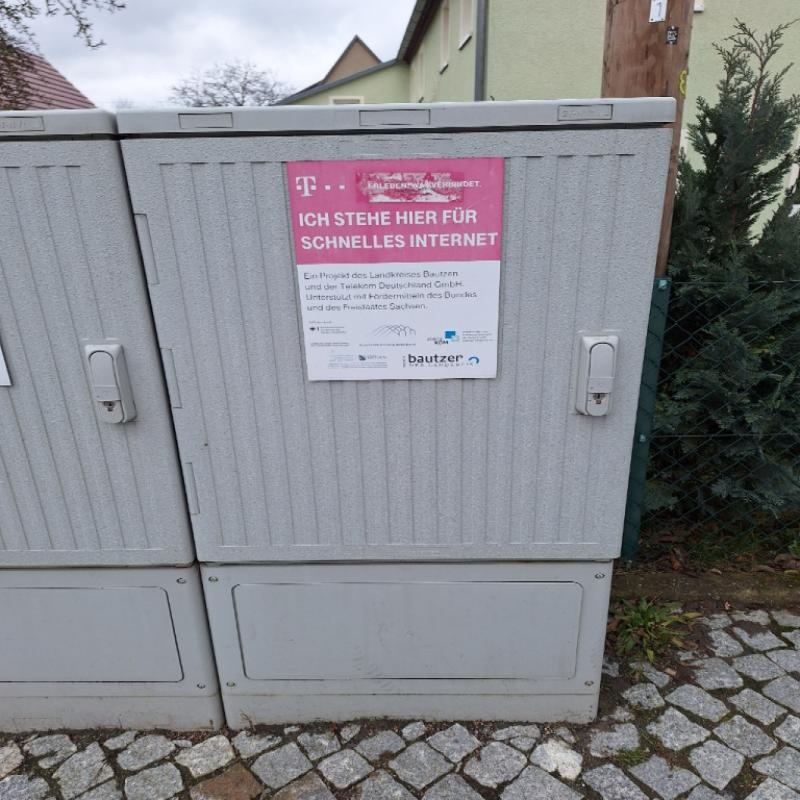NT-Gehause: (123, 102, 682, 732), (0, 109, 222, 733)
Steaker: (288, 163, 508, 377)
